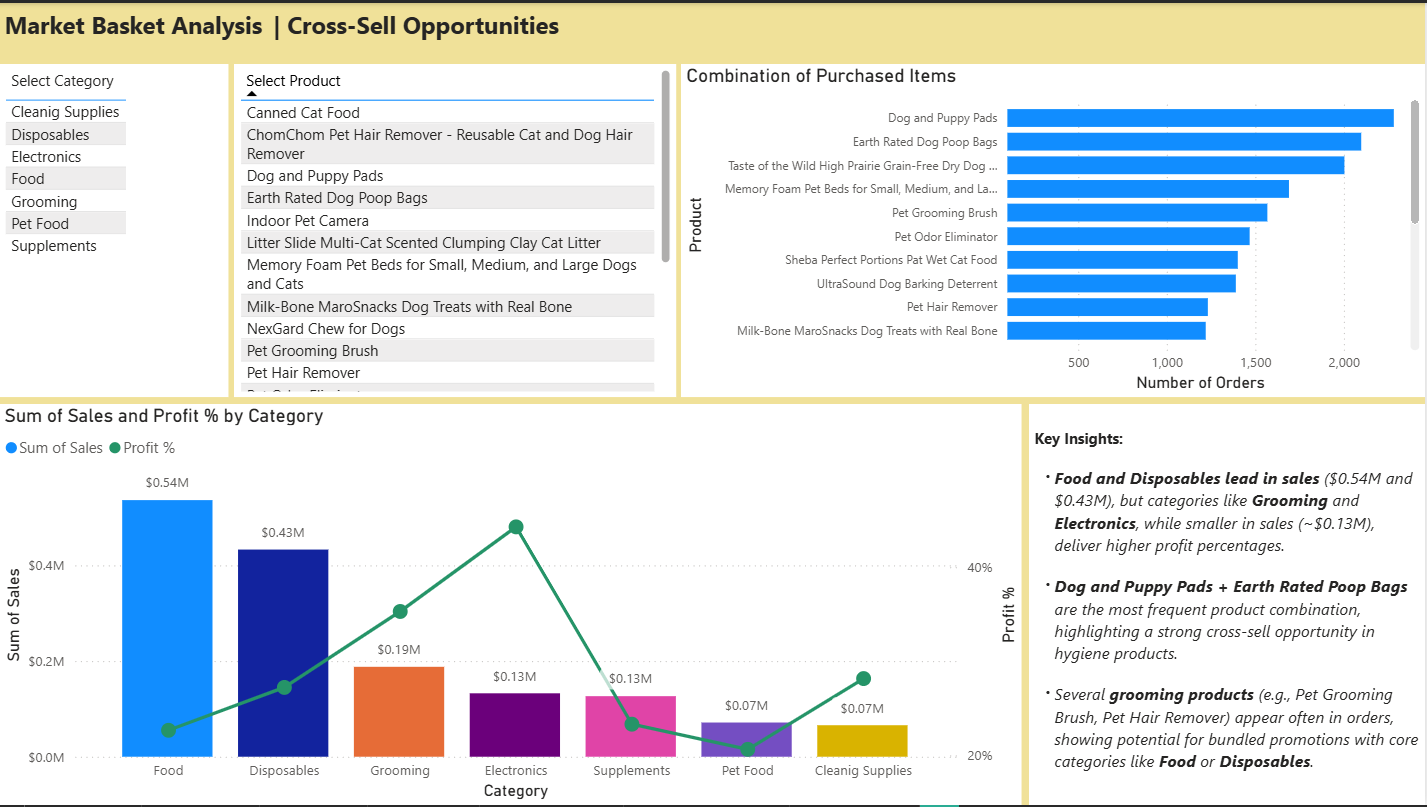

Layout of this report page (visuals, bound fields, positions):
{"tool":"powerbi","page":{"name":"Market_Basket_Analysis","canvas":[1280,720],"ordinal":5},"visuals":[{"type":"tableEx","fields":{"Values":["sales.Description"]},"box":[9.7,18.5,355,383.2],"z":0},{"type":"clusteredColumnChart","fields":{"Category":["Market Basket.Description"],"Y":["CountNonNull(Market Basket.Description)"]},"box":[428.9,18.5,825.8,383.2],"z":1000},{"type":"lineStackedColumnComboChart","fields":{"Category":["products.Description"],"Y":["Sum(sales.Sales)"],"Y2":["New_Measures.Profit %"]},"box":[9.7,410.5,1245,309.3],"z":2000}]}

Visuals, with their boxes in screenshot pixels (x1, y1, x2, y2), scaled from the page's 1280x720 canvas onto the 1427x807 screenshot:
tableEx - sales.Description: x1=11 y1=21 x2=407 y2=450
clusteredColumnChart - Market Basket.Description x CountNonNull(Market Basket.Description): x1=478 y1=21 x2=1399 y2=450
lineStackedColumnComboChart - products.Description x Sum(sales.Sales): x1=11 y1=460 x2=1399 y2=806
